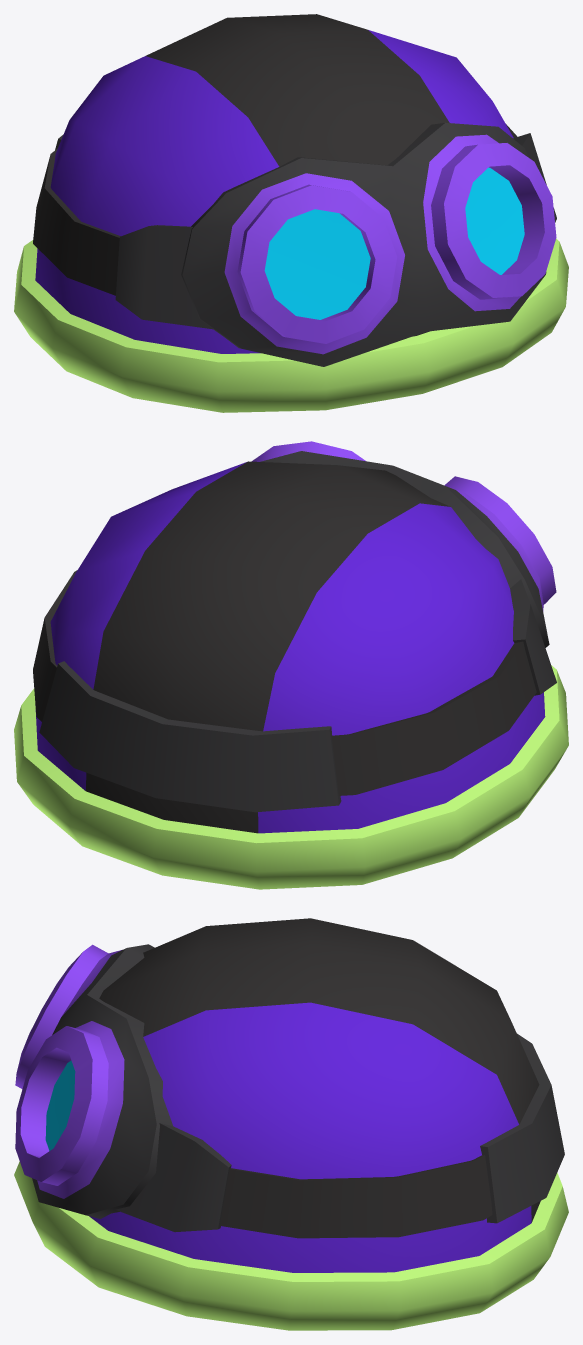
The model's file is Headgear_52.fbx.
3 views of the same model, one above another, from view 1: azimuth 30°, elevation 25°; view 2: azimuth 150°, elevation 25°; view 3: azimuth 270°, elevation 25° (orthographic).
Parts seen in each view (by area): view 1: Headgear_52; view 2: Headgear_52; view 3: Headgear_52.
Boxes of the visible parts, <box> form: Headgear_52: <box>14,14,568,412</box>; Headgear_52: <box>14,441,568,889</box>; Headgear_52: <box>14,918,568,1330</box>.
Size of the model in its own units: 69.82 by 40.49 by 69.63.
